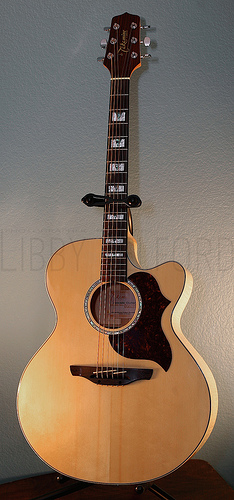guitar: (13, 10, 222, 485)
